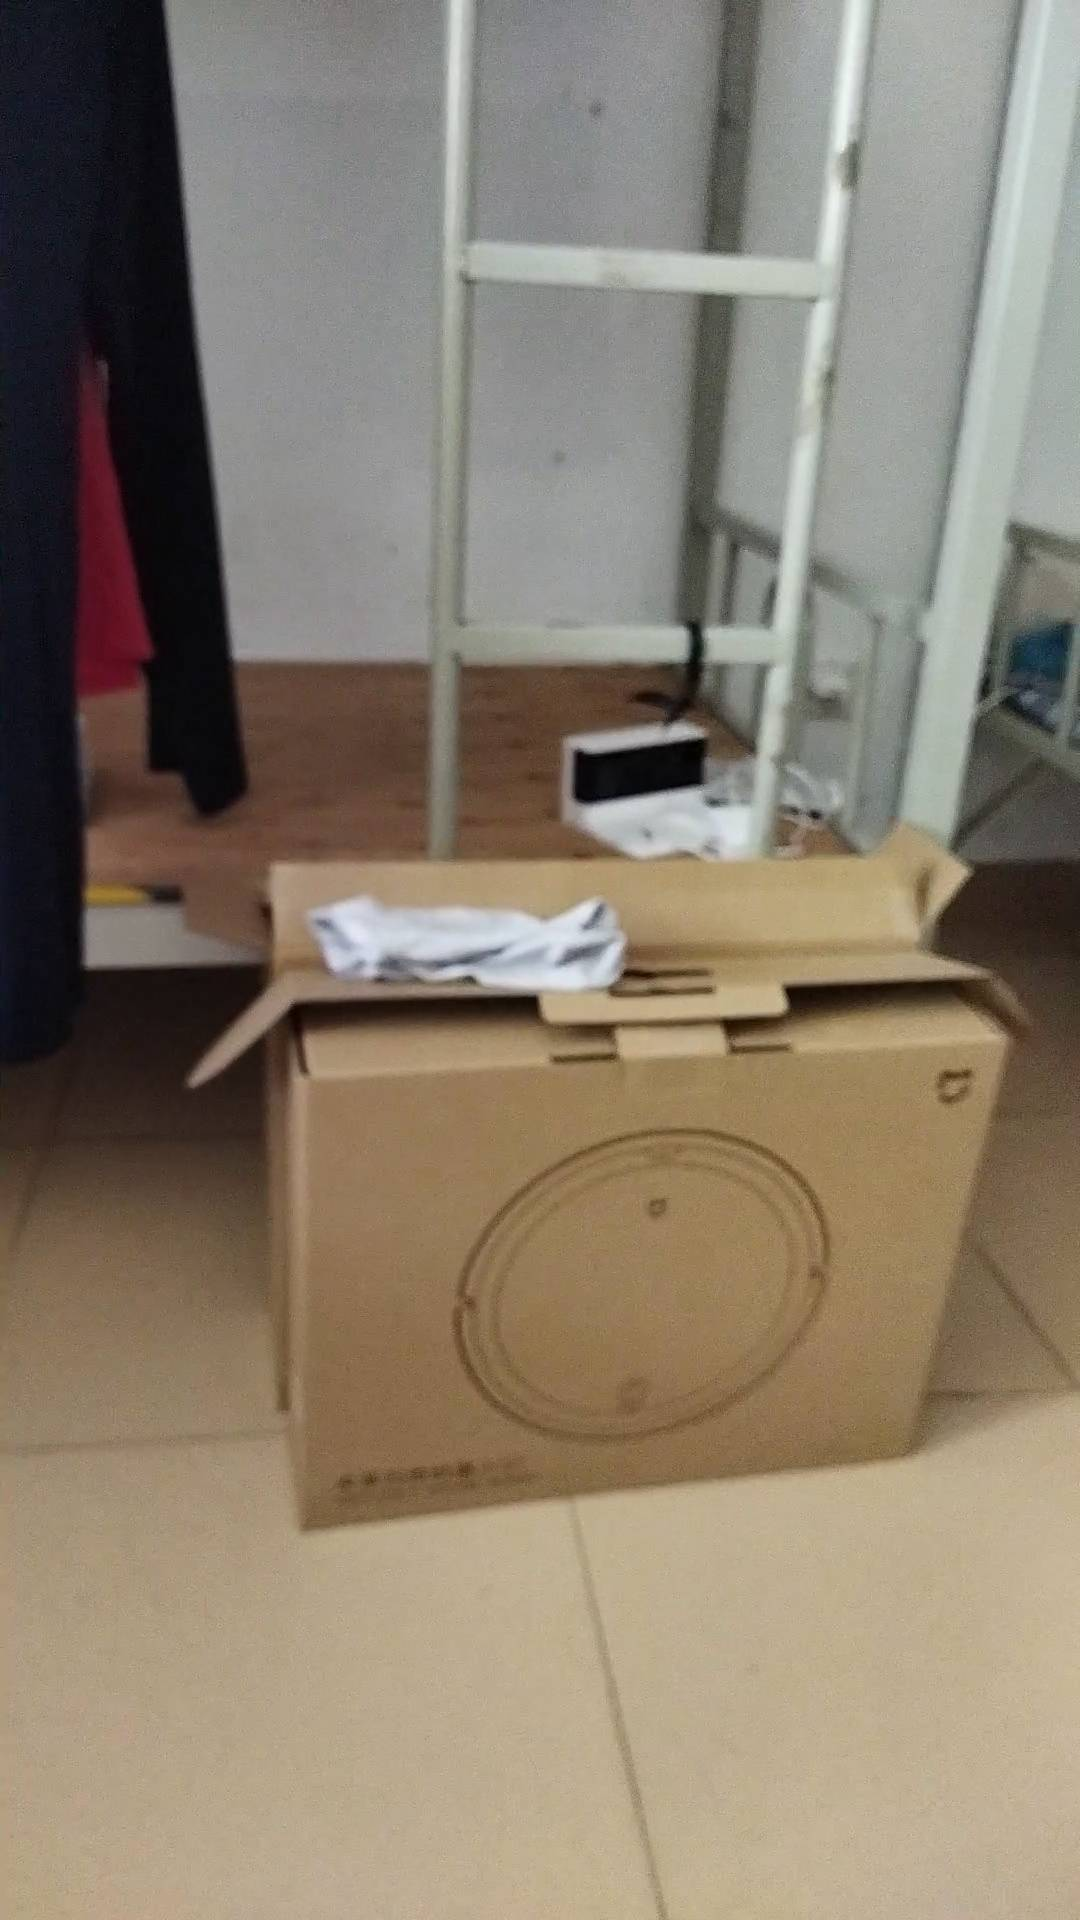recharge seat: (556, 716, 727, 858)
